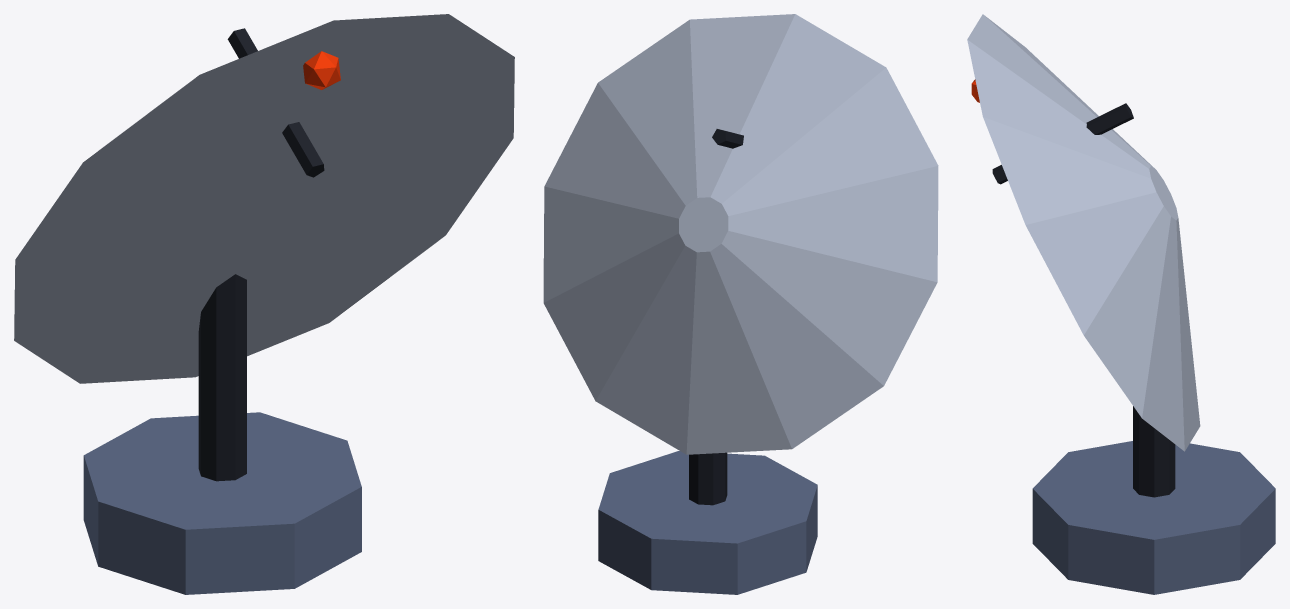
File: antenna_dish.obj
The picture shows the model from 3 angles, left to right: view 1: azimuth 30°, elevation 25°; view 2: azimuth 150°, elevation 25°; view 3: azimuth 270°, elevation 25°; orthographic projection. The views are drawn at different scales.
Parts seen in each view (by area): view 1: antenna_dish; view 2: antenna_dish; view 3: antenna_dish.
Part boxes in pixels (x1=…): antenna_dish: x1=14, y1=14, x2=514, y2=594; antenna_dish: x1=543, y1=14, x2=938, y2=594; antenna_dish: x1=967, y1=14, x2=1275, y2=594.
Size of the model in its own units: 1.6 by 1.83 by 1.02.
